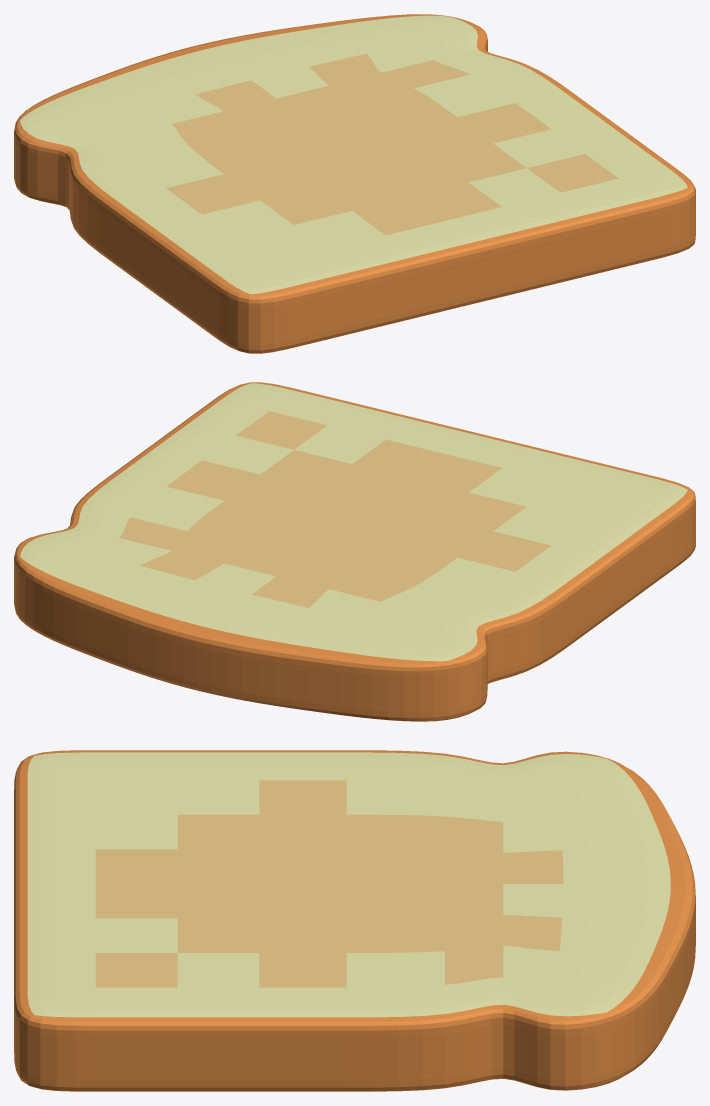
File: Bread.fbx
The picture shows the model from 3 angles, top to bottom: view 1: azimuth 30°, elevation 25°; view 2: azimuth 150°, elevation 25°; view 3: azimuth 270°, elevation 25°; orthographic projection. The views are drawn at different scales.
Parts seen in each view (by area): view 1: Bread; view 2: Bread; view 3: Bread.
Part boxes in pixels (left/top/right/bottom): Bread: left=14, top=14, right=695, bottom=353; Bread: left=14, top=382, right=695, bottom=721; Bread: left=14, top=750, right=695, bottom=1091.
Size of the model in its own units: 300 by 37.5 by 313.
